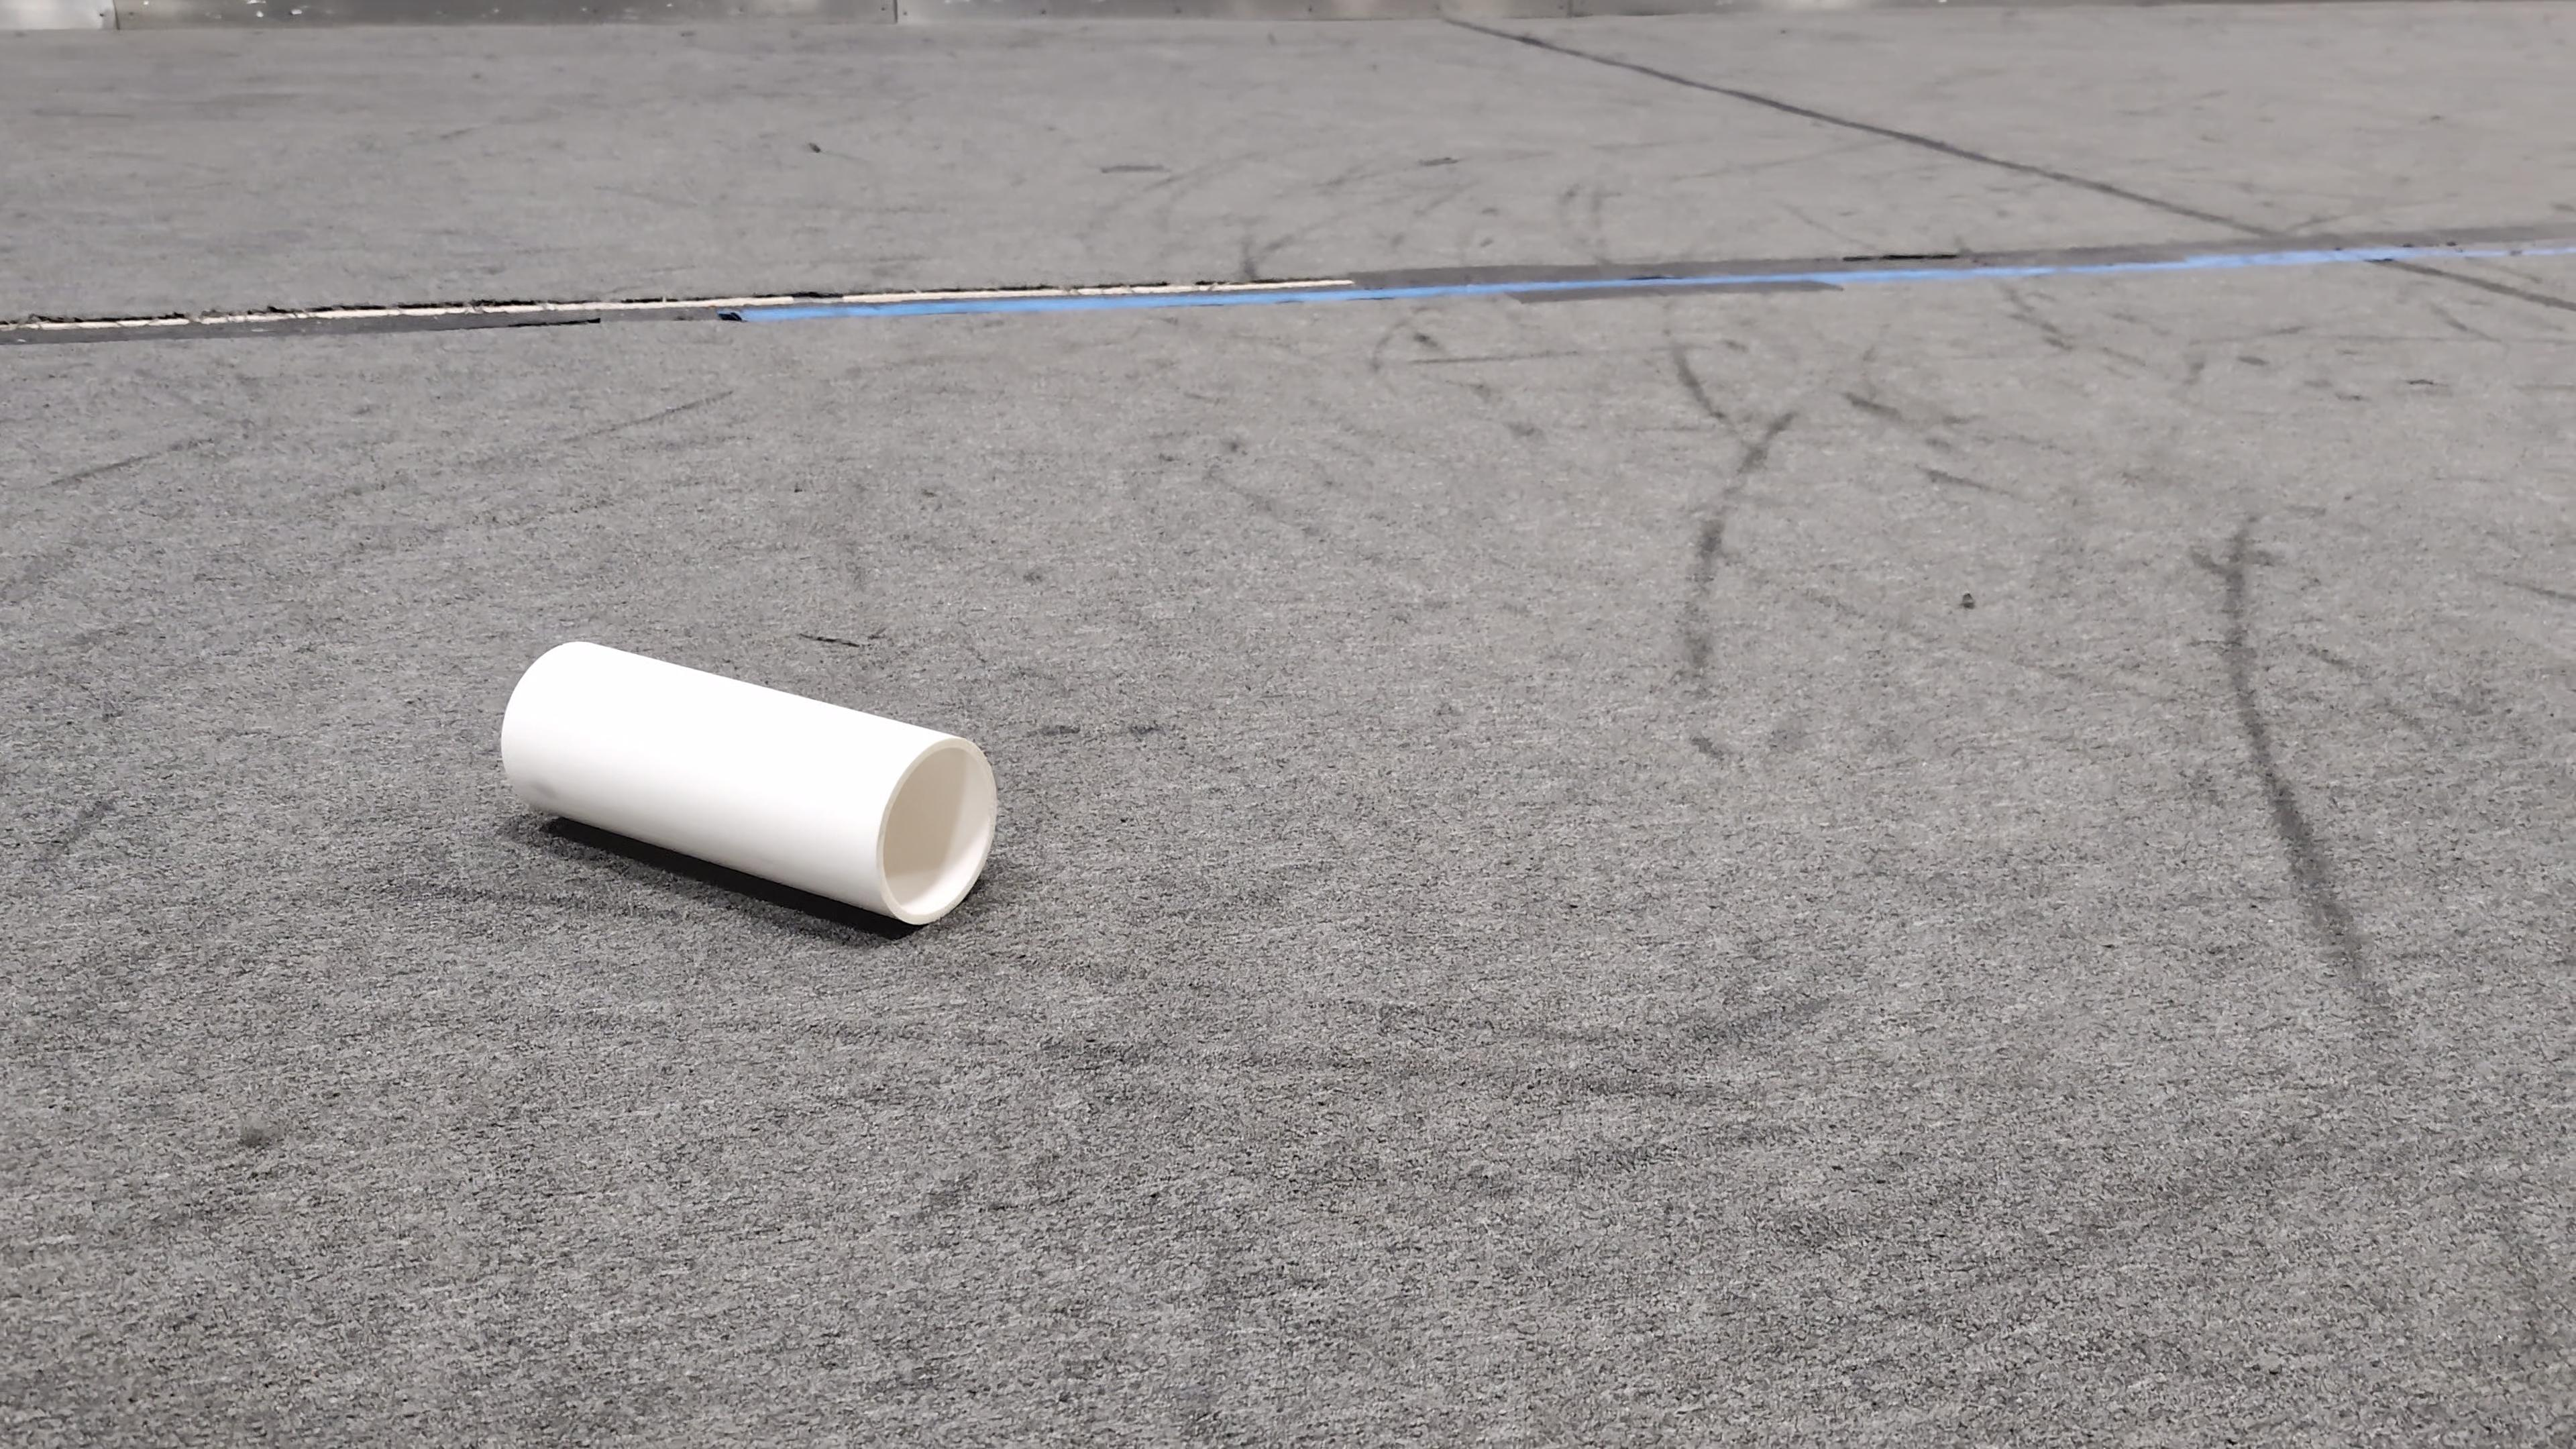coral: (499, 635, 1000, 927)
